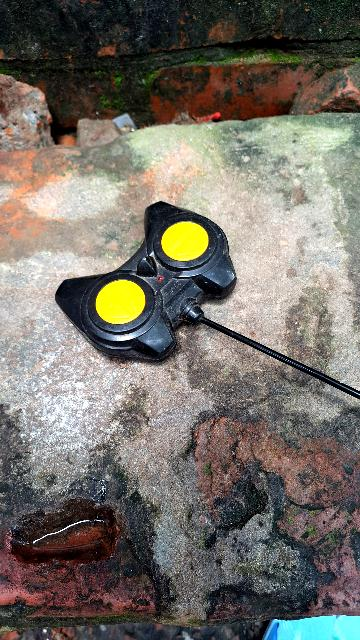hardplastic: (55, 199, 239, 360)
